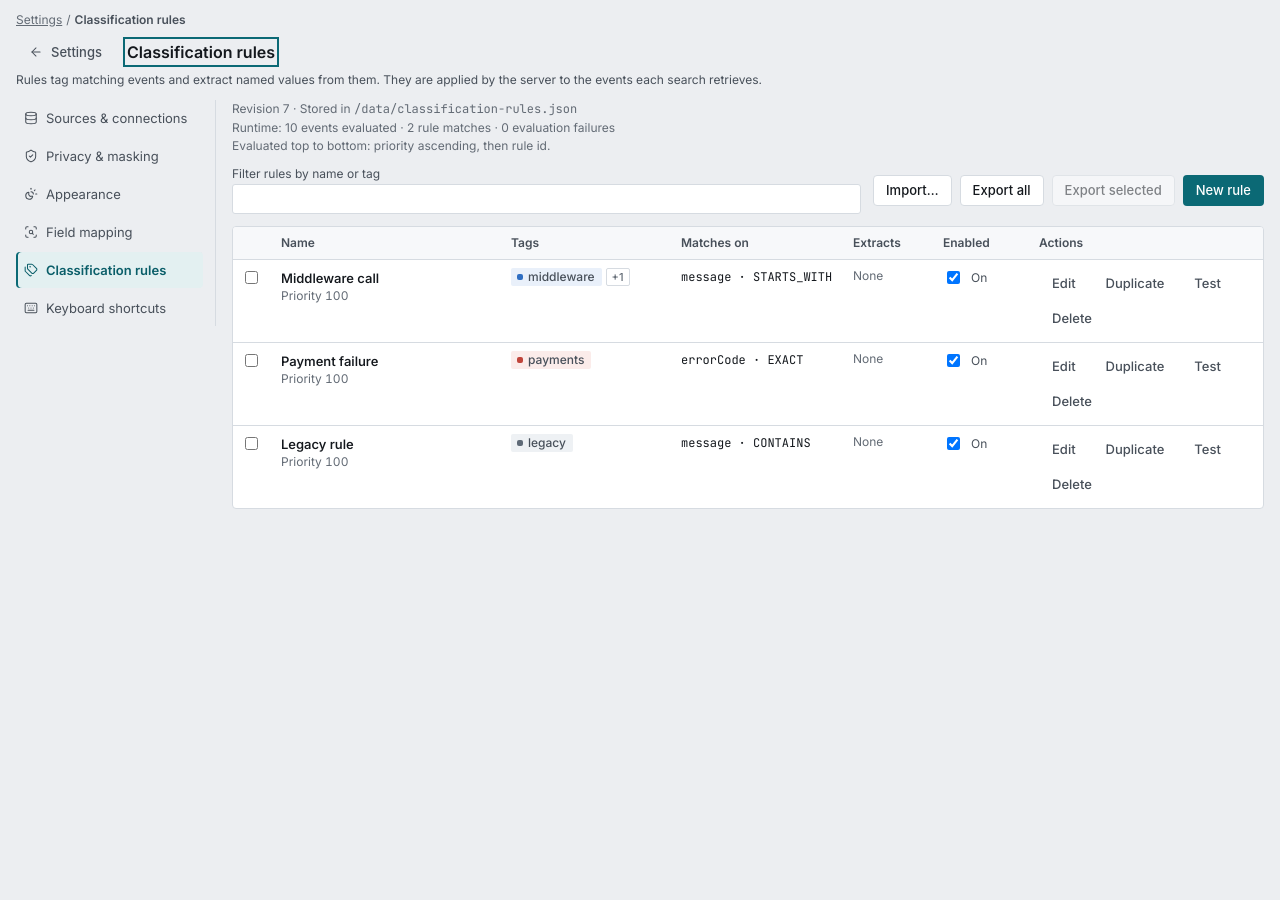
Test: Tag colour - choosing it in the Classification step › offers the whole controlled palette, each entry named in words so the choice is never colour-only
Click the button "New rule".
click(1223, 190)  # box [1183,174,1264,206]
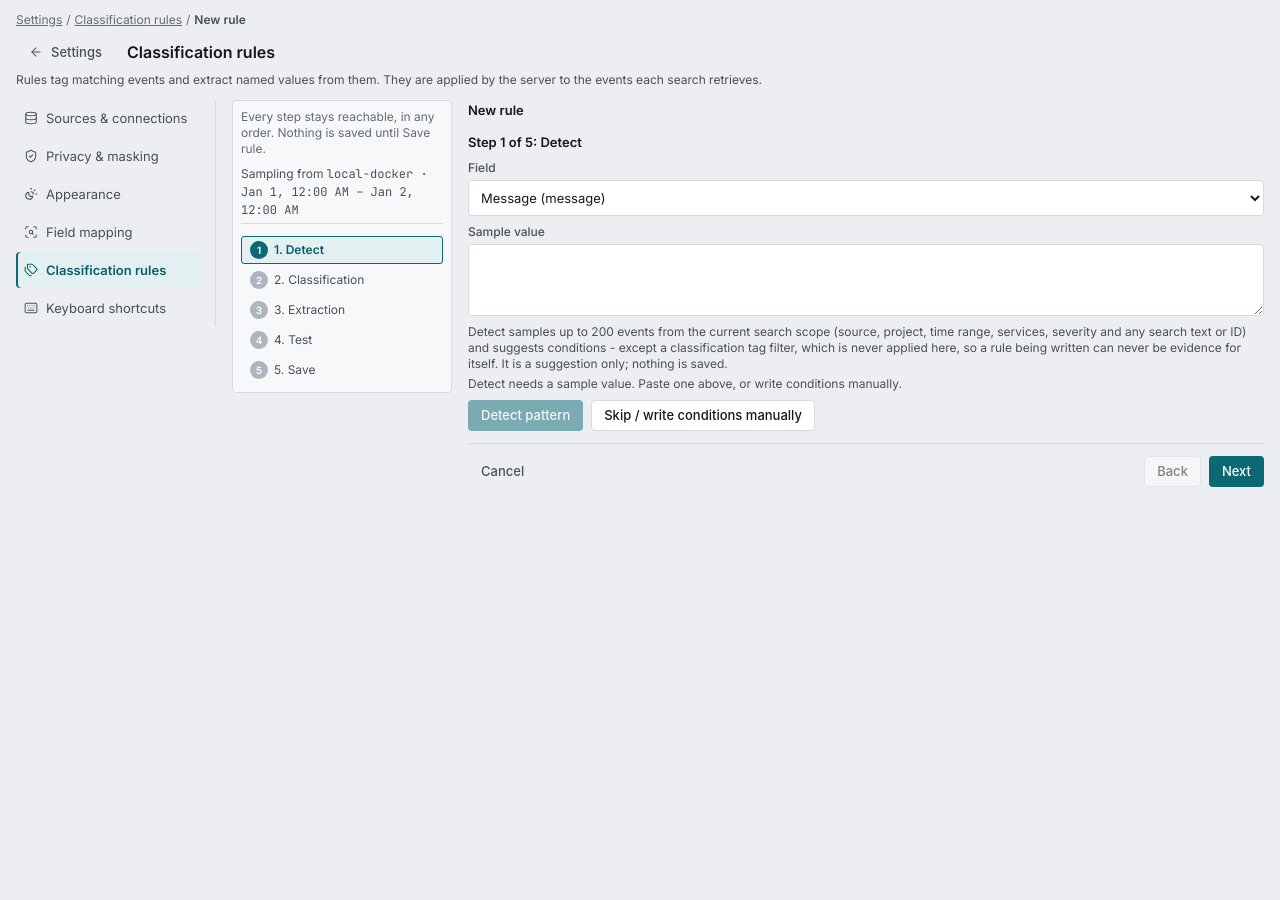
Click the button "2 2. Classification".
click(342, 280)  # box [241,266,443,294]
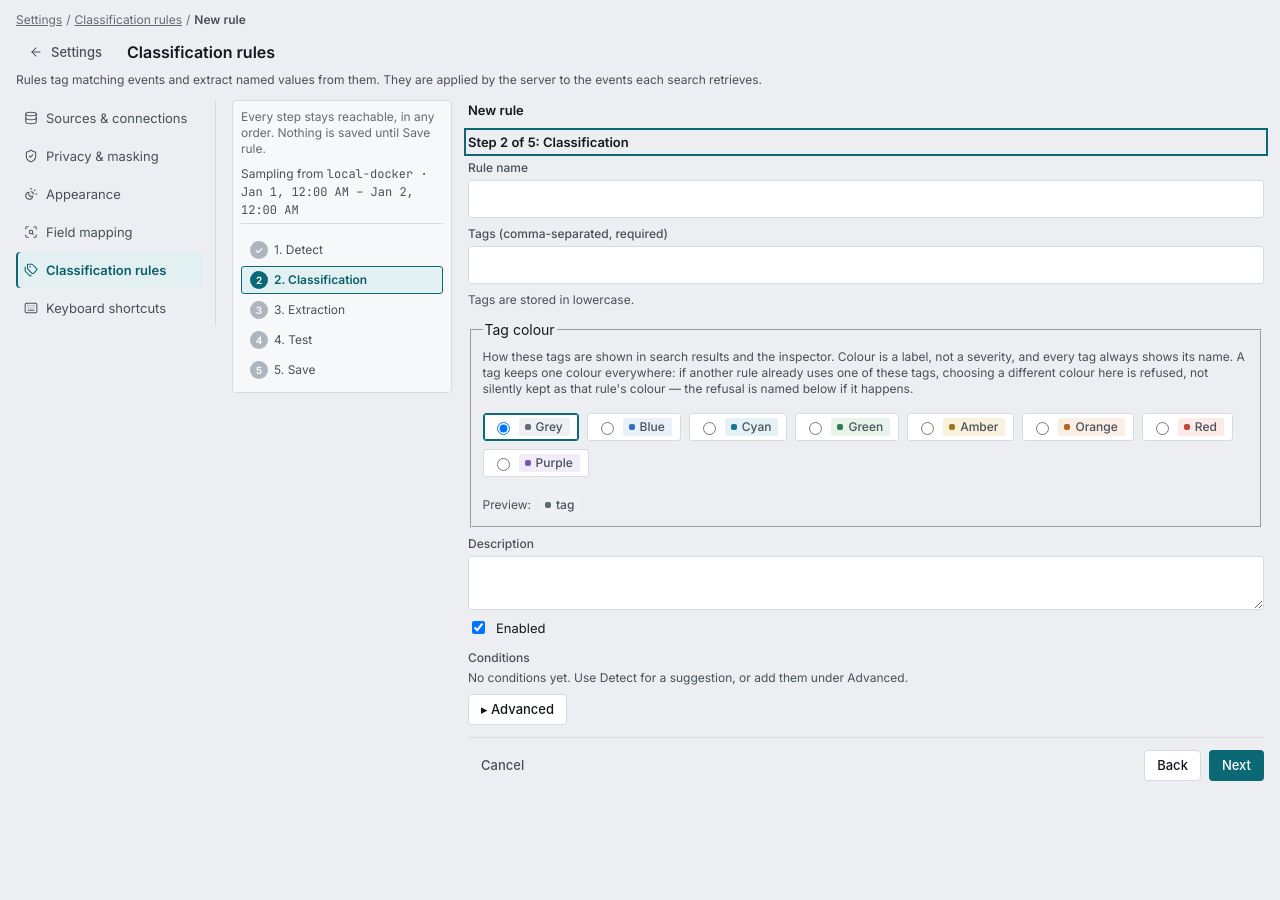
Result: the number of radio buttons is 8
Result: the radio button labelled "Blue" is shown at [601,422,614,435]
Result: the radio button labelled "Cyan" is shown at [703,422,716,435]
